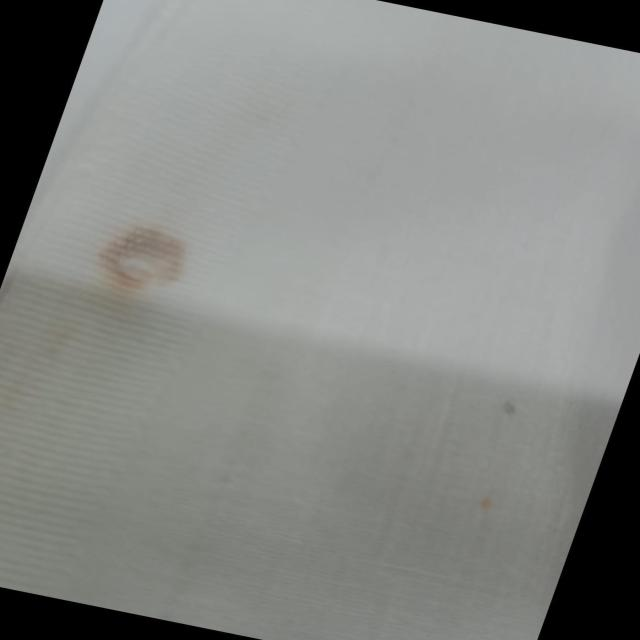stain: (67, 203, 217, 318), (475, 385, 547, 434), (455, 478, 520, 530)
